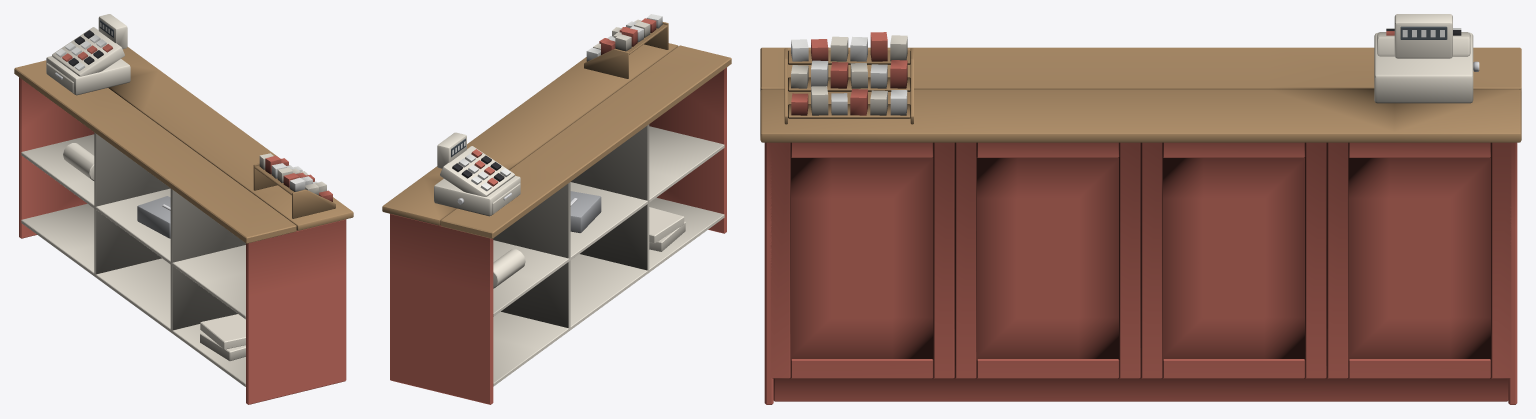
Rendered from counter.glb.
The picture shows the model from 3 angles, left to right: view 1: azimuth 30°, elevation 25°; view 2: azimuth 150°, elevation 25°; view 3: azimuth 270°, elevation 25°; orthographic projection. The views are drawn at different scales.
Parts seen in each view (by area): view 1: PART; view 2: PART; view 3: PART.
Part boxes in pixels (<box>): PART: <box>14,14,353,404</box>; PART: <box>382,14,731,404</box>; PART: <box>760,14,1521,404</box>.
Size of the model in its own units: 0.7 by 1.37 by 2.61.
